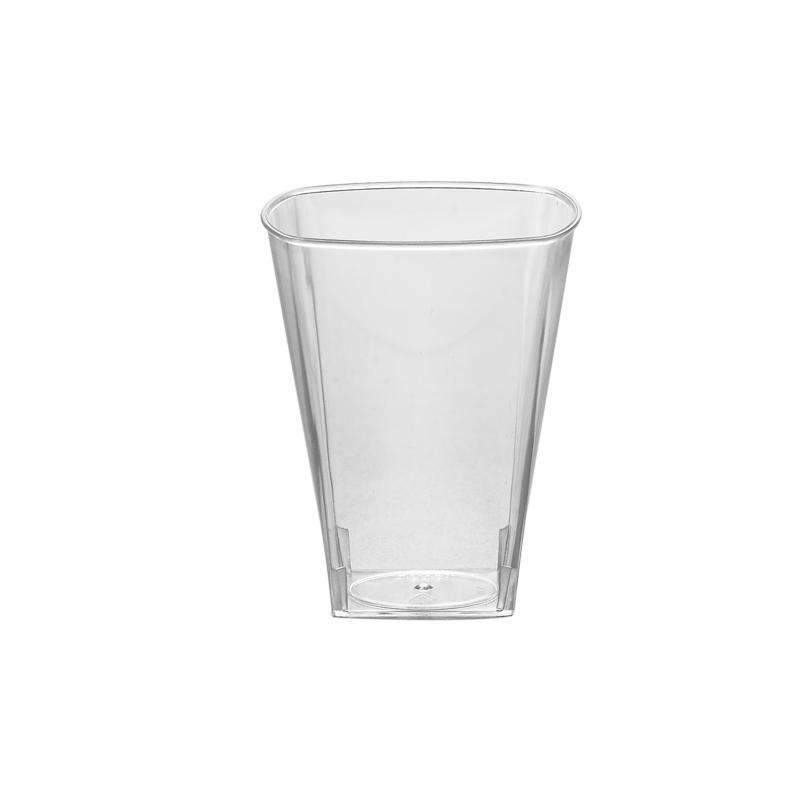plastic_glass: (257, 177, 594, 630)
